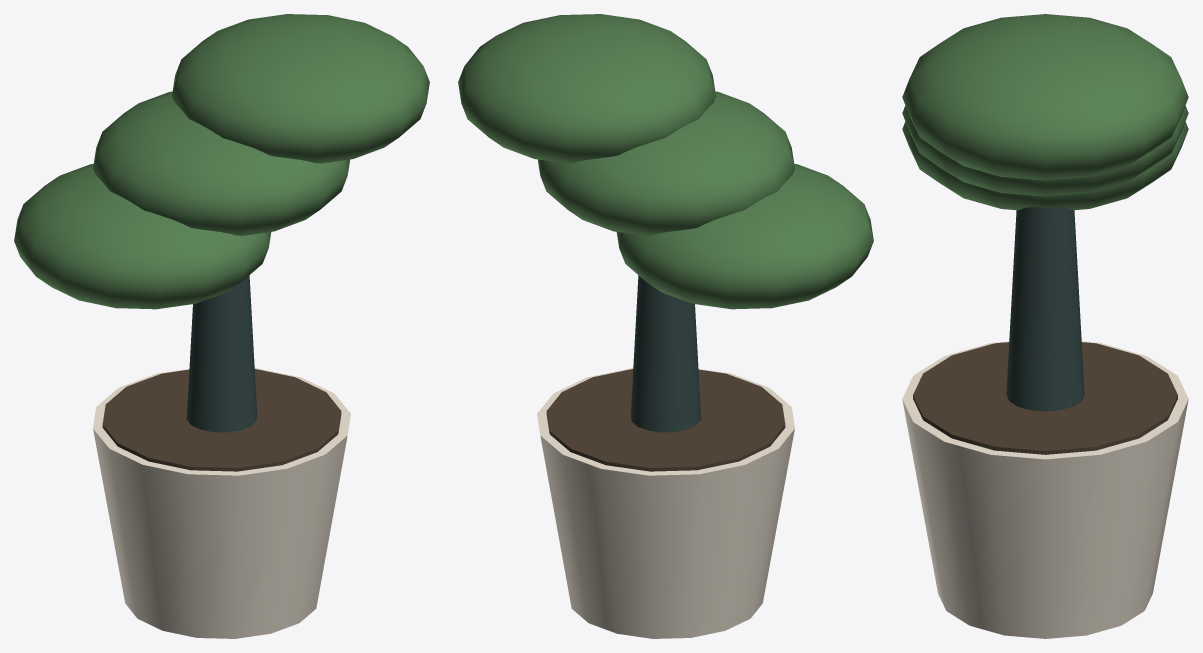
3 views of the same model, side by side, from view 1: azimuth 30°, elevation 25°; view 2: azimuth 150°, elevation 25°; view 3: azimuth 270°, elevation 25° (orthographic). The views are drawn at different scales.
Visible parts, largest first — view 1: pot, crown2, crown0, crown1, soil, trunk; view 2: pot, crown2, crown0, crown1, soil, trunk; view 3: pot, crown2, soil, trunk, crown1, crown0.
Boxes of the visible parts, left/top/right/bottom form: pot: left=93, top=368, right=350, bottom=638; crown2: left=172, top=14, right=429, bottom=163; crown0: left=14, top=164, right=271, bottom=309; crown1: left=93, top=91, right=349, bottom=235; soil: left=102, top=369, right=341, bottom=471; trunk: left=186, top=275, right=257, bottom=432; pot: left=537, top=368, right=794, bottom=638; crown2: left=458, top=14, right=715, bottom=163; crown0: left=616, top=164, right=873, bottom=309; crown1: left=538, top=91, right=794, bottom=235; soil: left=546, top=369, right=785, bottom=471; trunk: left=630, top=275, right=701, bottom=432; pot: left=902, top=341, right=1188, bottom=638; crown2: left=902, top=14, right=1188, bottom=180; soil: left=913, top=342, right=1177, bottom=454; trunk: left=1006, top=207, right=1084, bottom=411; crown1: left=902, top=106, right=1188, bottom=196; crown0: left=902, top=122, right=1188, bottom=210.
Size of the model in its own units: 0.68 by 0.92 by 0.4.
